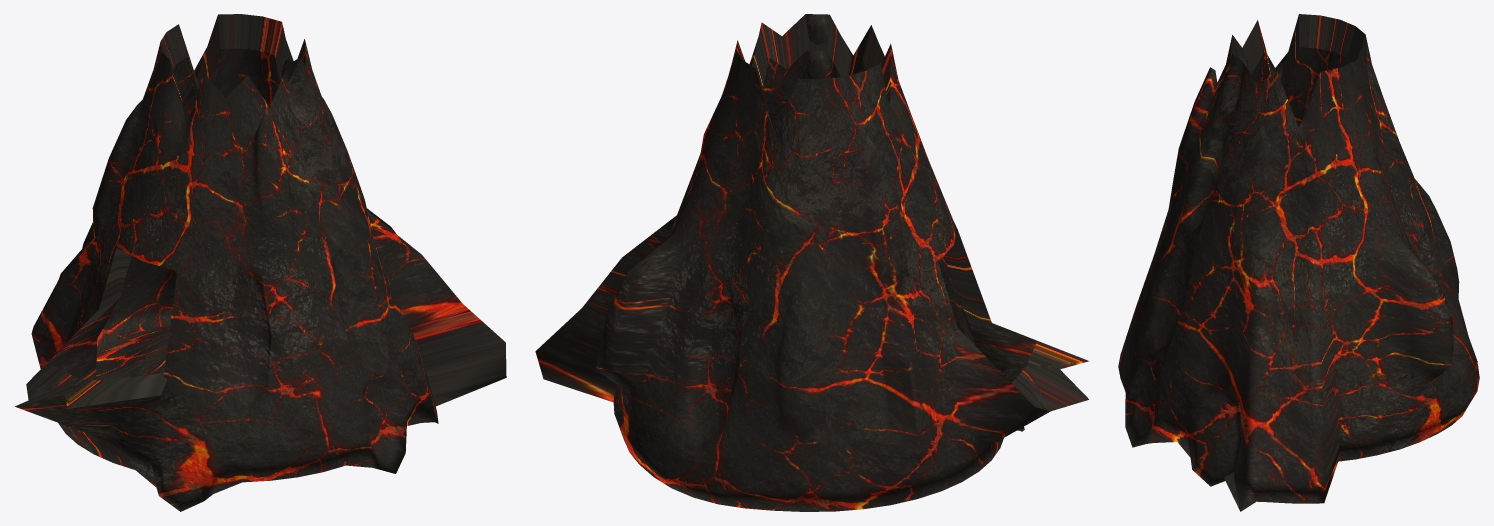
File: Volcano_NoAnim.fbx
The picture shows the model from 3 angles, left to right: view 1: azimuth 30°, elevation 25°; view 2: azimuth 150°, elevation 25°; view 3: azimuth 270°, elevation 25°; orthographic projection. The views are drawn at different scales.
Visible parts, largest first — view 1: polySurface1; view 2: polySurface1; view 3: polySurface1.
Part boxes in pixels (x1,y1,x2,y2): polySurface1: (15, 14, 506, 511); polySurface1: (535, 14, 1089, 511); polySurface1: (1118, 14, 1479, 511).
Size of the model in its own units: 603 by 455 by 405.
Materials: 2 (1 with a texture image).
